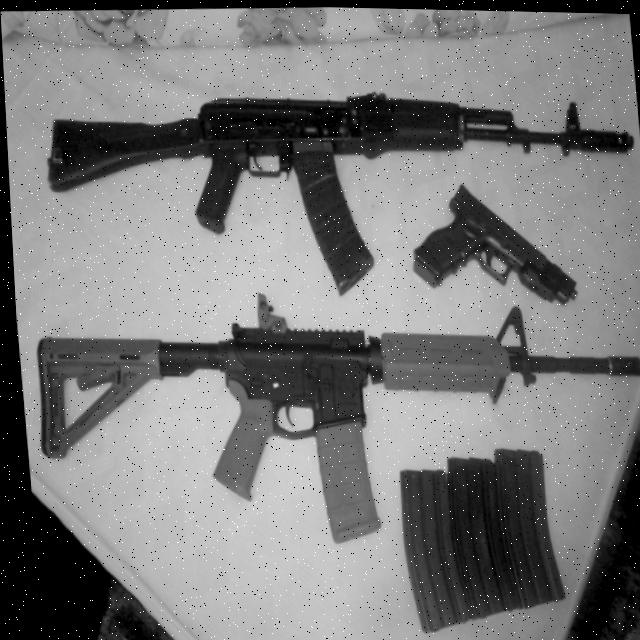firearm: (21, 272, 640, 557), (35, 73, 640, 303)
pistol: (400, 175, 576, 309)
